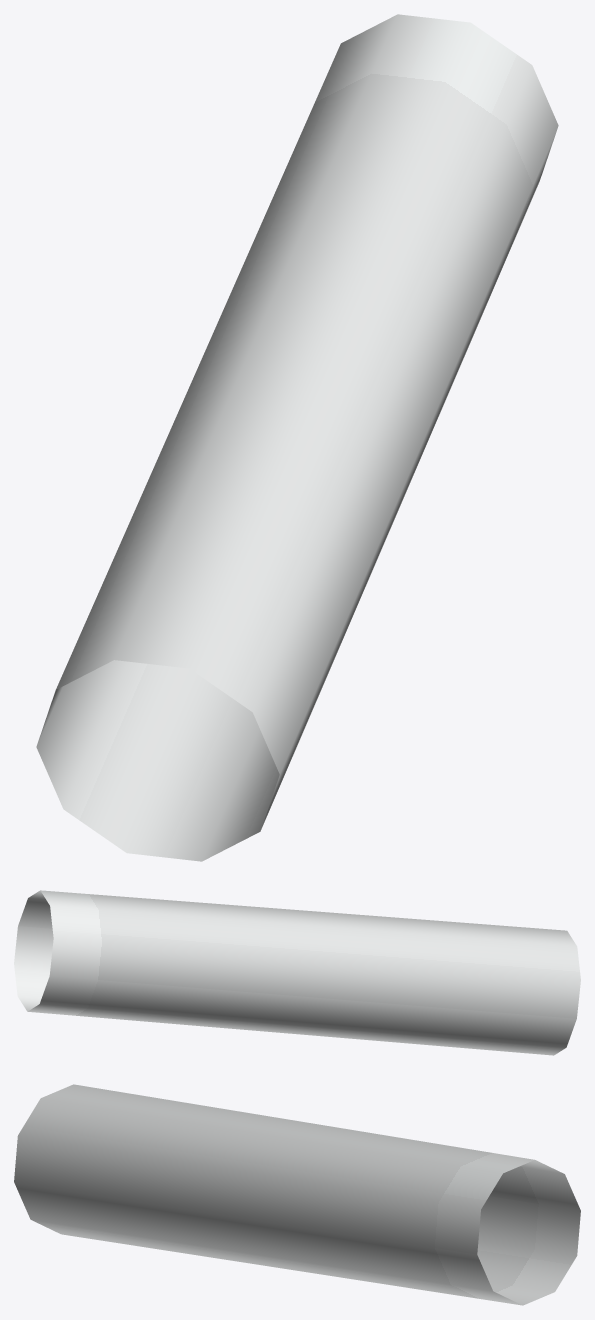
File: nycsignalarm_diagonal12_c5.obj
3 views of the same model, one above another, from view 1: azimuth 30°, elevation 25°; view 2: azimuth 150°, elevation 25°; view 3: azimuth 270°, elevation 25° (orthographic). The views are drawn at different scales.
Parts seen in each view (by area): view 1: nycsignalarm_diagonal12_c5; view 2: nycsignalarm_diagonal12_c5; view 3: nycsignalarm_diagonal12_c5.
Boxes of the visible parts, box(x1,y1,x2,y2) form: nycsignalarm_diagonal12_c5: box(36, 14, 558, 861); nycsignalarm_diagonal12_c5: box(14, 890, 580, 1055); nycsignalarm_diagonal12_c5: box(14, 1084, 580, 1305).
Size of the model in its own units: 1.23 by 0.5912 by 1.23.
